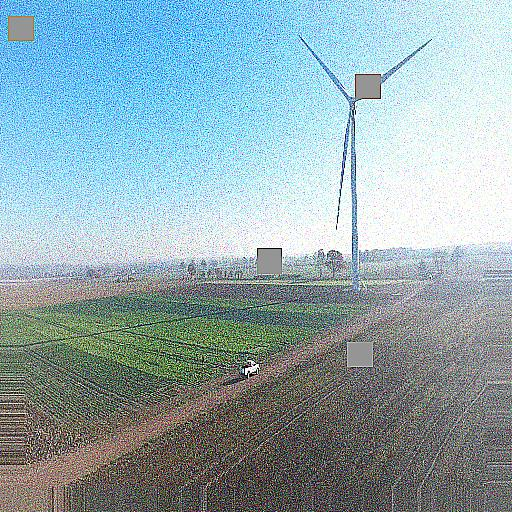wind turbine: (296, 36, 435, 300)
